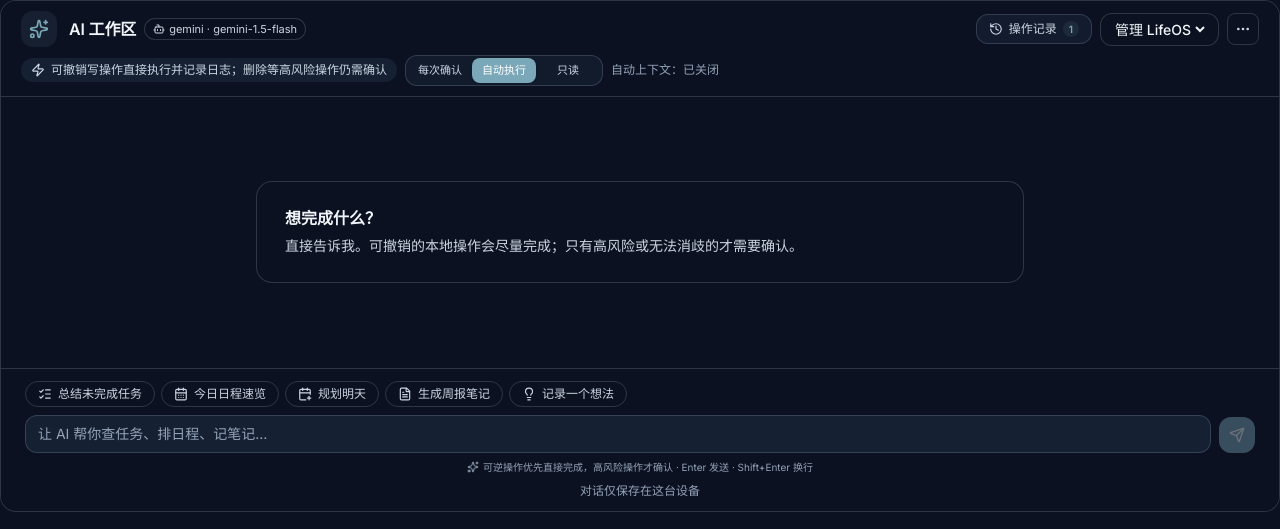
Test: AICommandCenter — full management loop › auto mode executes a reversible local write without a confirmation round-trip
Step 1. Type "帮我创建一个高优先级任务：买牛奶" into the text box with test id "agent-composer-input" → point(618, 434), box [25, 415, 1211, 453]
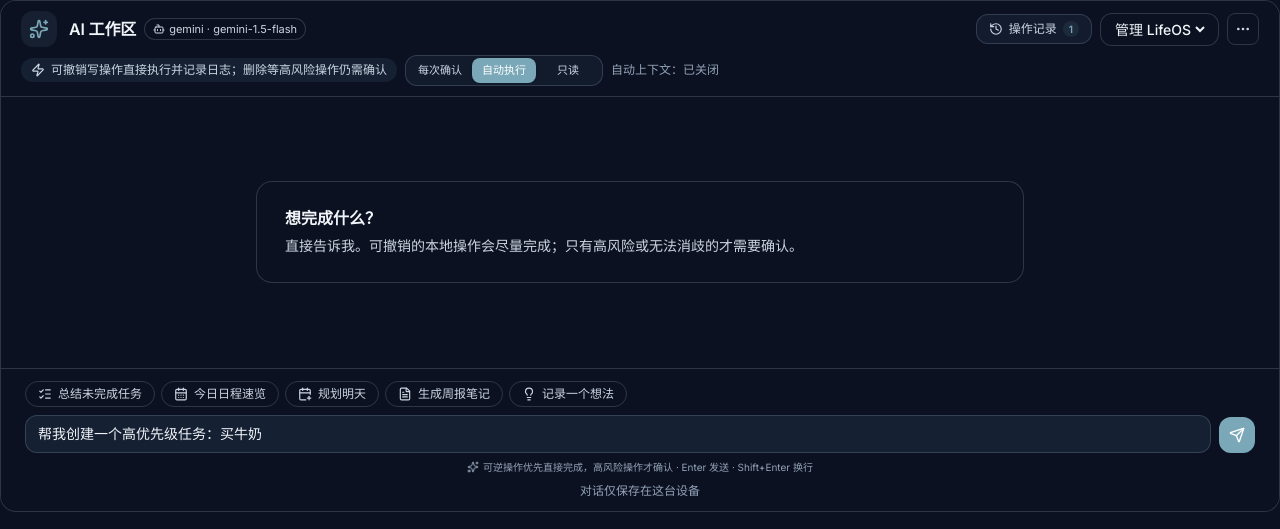
Step 2. Click the button named "发送" → point(1237, 435), box [1219, 417, 1255, 453]
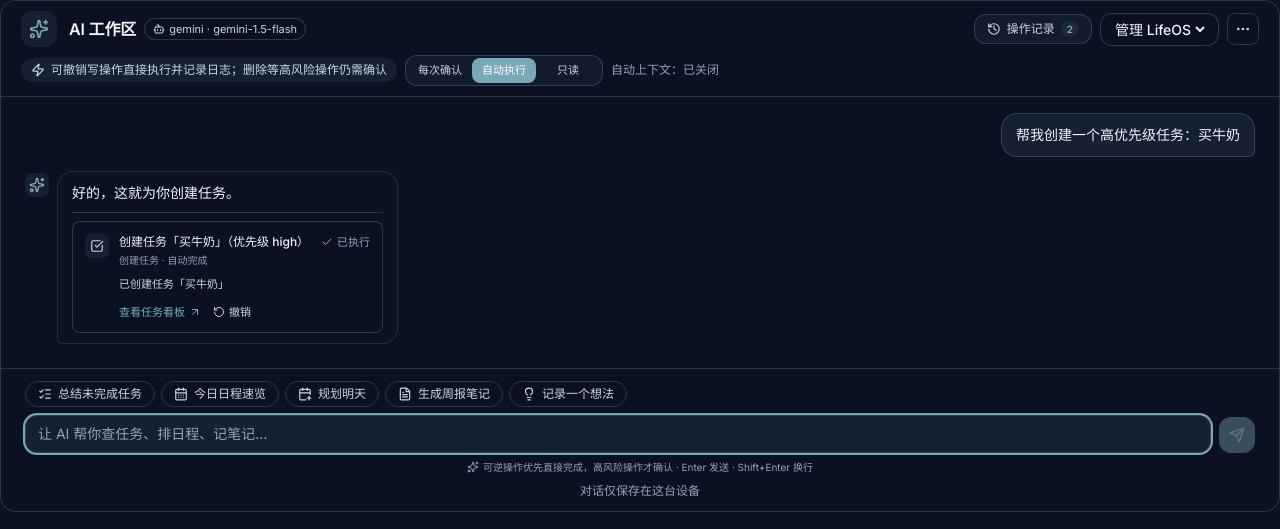
Expected: the text "已执行" is shown, [321, 232, 370, 252]
